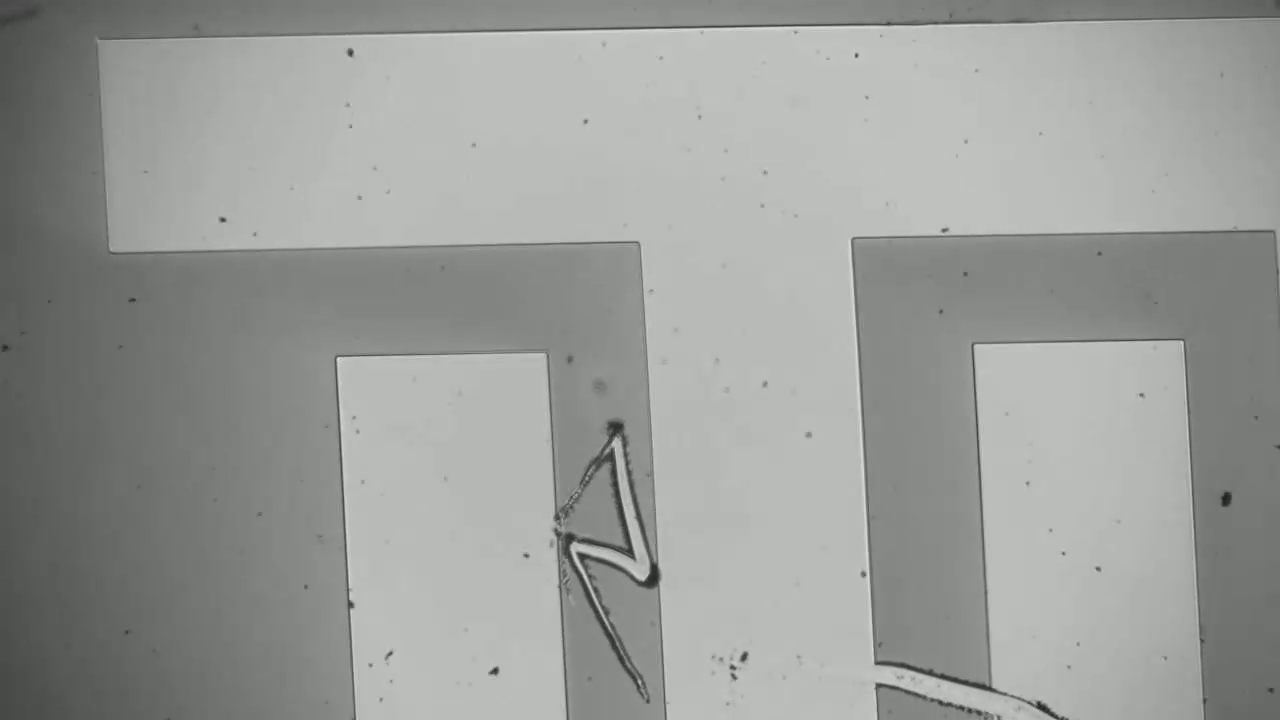Short_circuit: (847, 638, 1020, 720), (540, 525, 675, 595)
